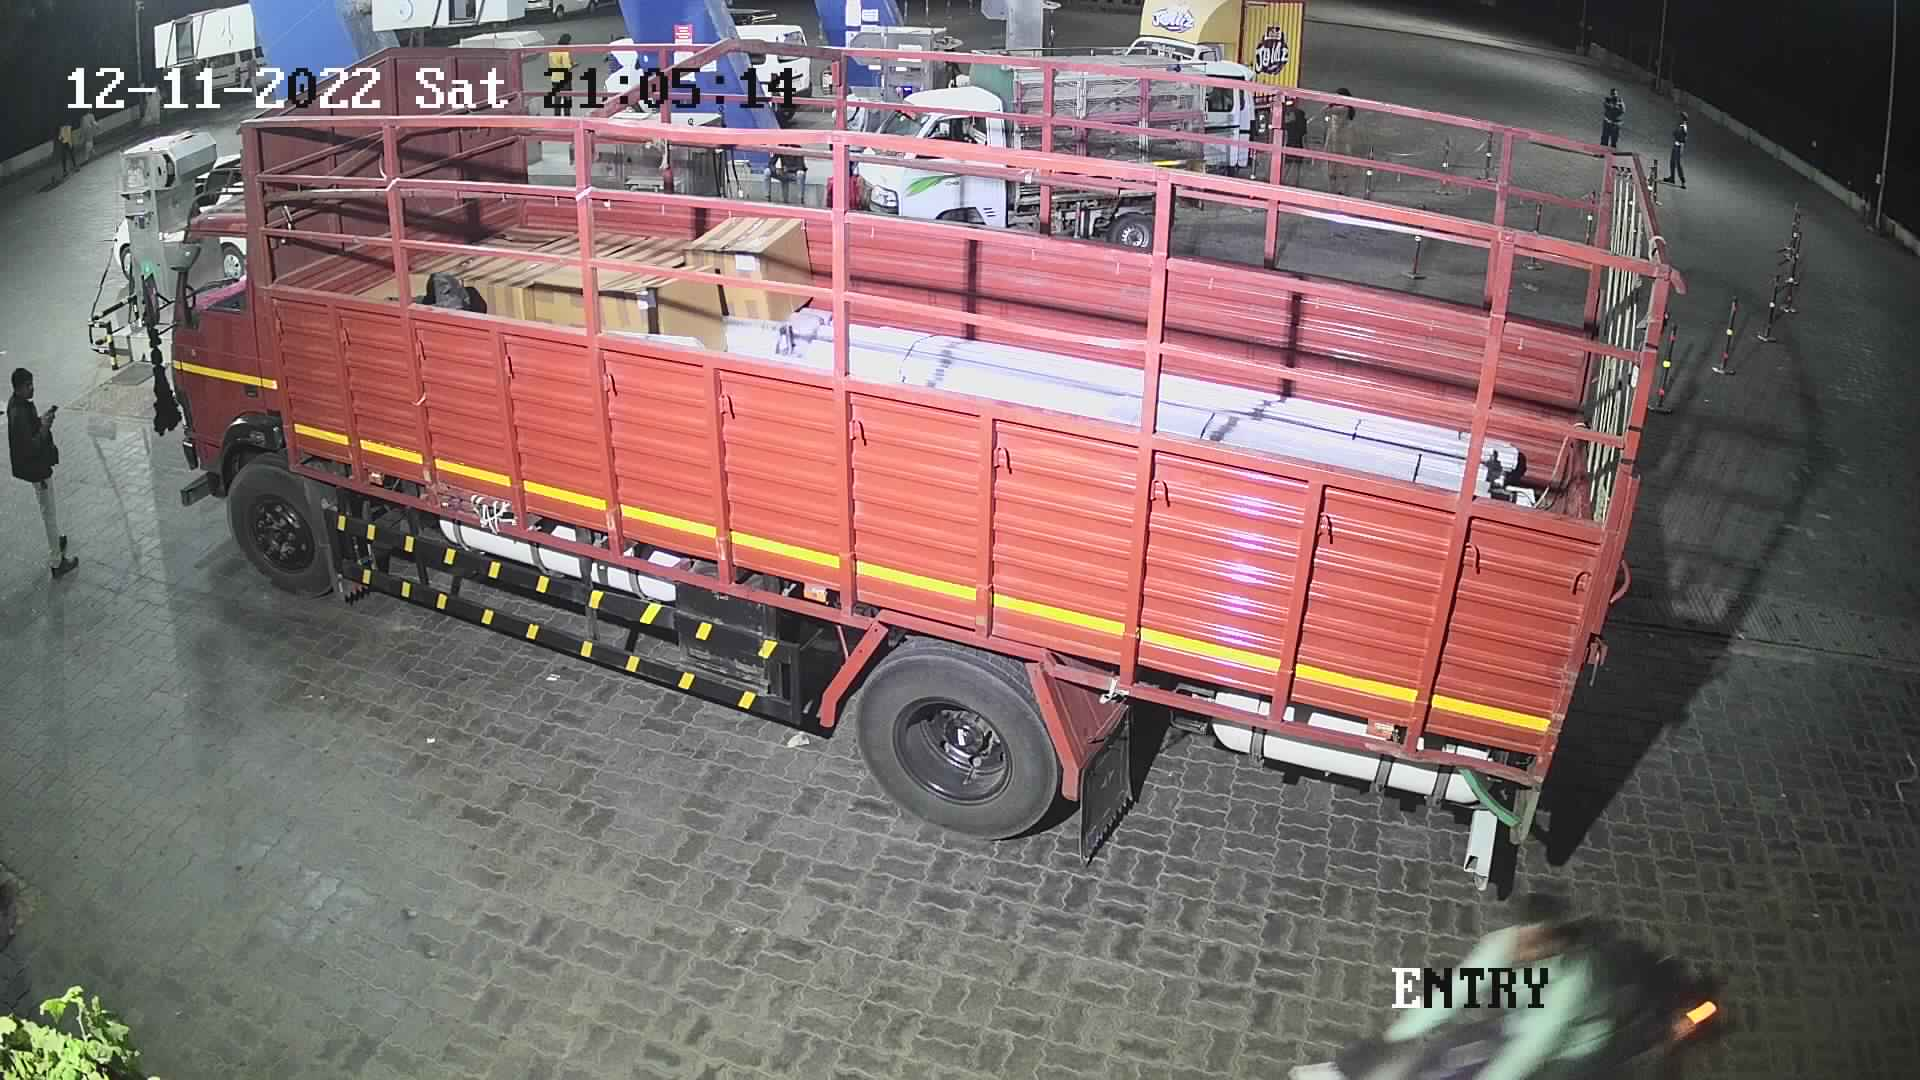Bike: (1224, 864, 1749, 1077)
Car: (1104, 1, 1313, 144), (1180, 47, 1287, 186), (733, 13, 823, 121)
HMV: (75, 0, 1797, 889)
